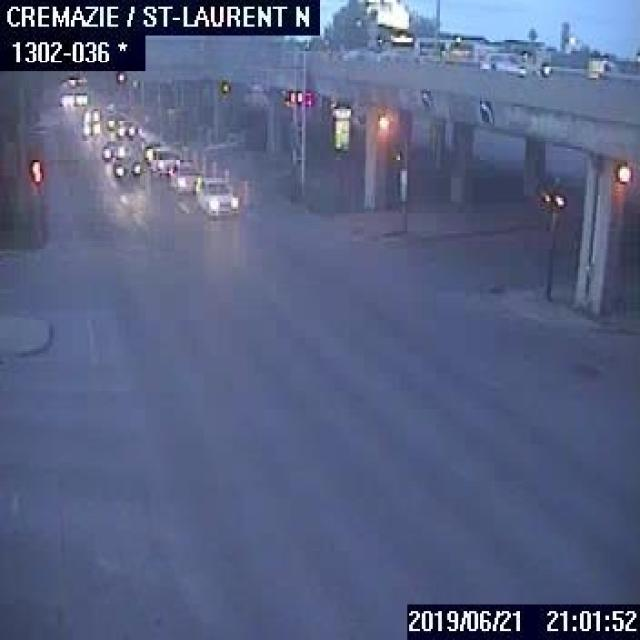construction: (240, 169, 249, 204), (200, 153, 207, 171), (222, 164, 229, 180), (210, 158, 216, 174)
vehicle: (192, 173, 236, 215), (478, 50, 538, 75), (166, 157, 202, 194), (150, 145, 182, 178), (110, 153, 144, 184), (100, 137, 126, 160), (141, 140, 162, 162), (81, 119, 99, 136), (106, 110, 123, 128), (116, 120, 133, 136), (58, 88, 73, 105), (81, 106, 100, 119), (74, 90, 86, 104)
